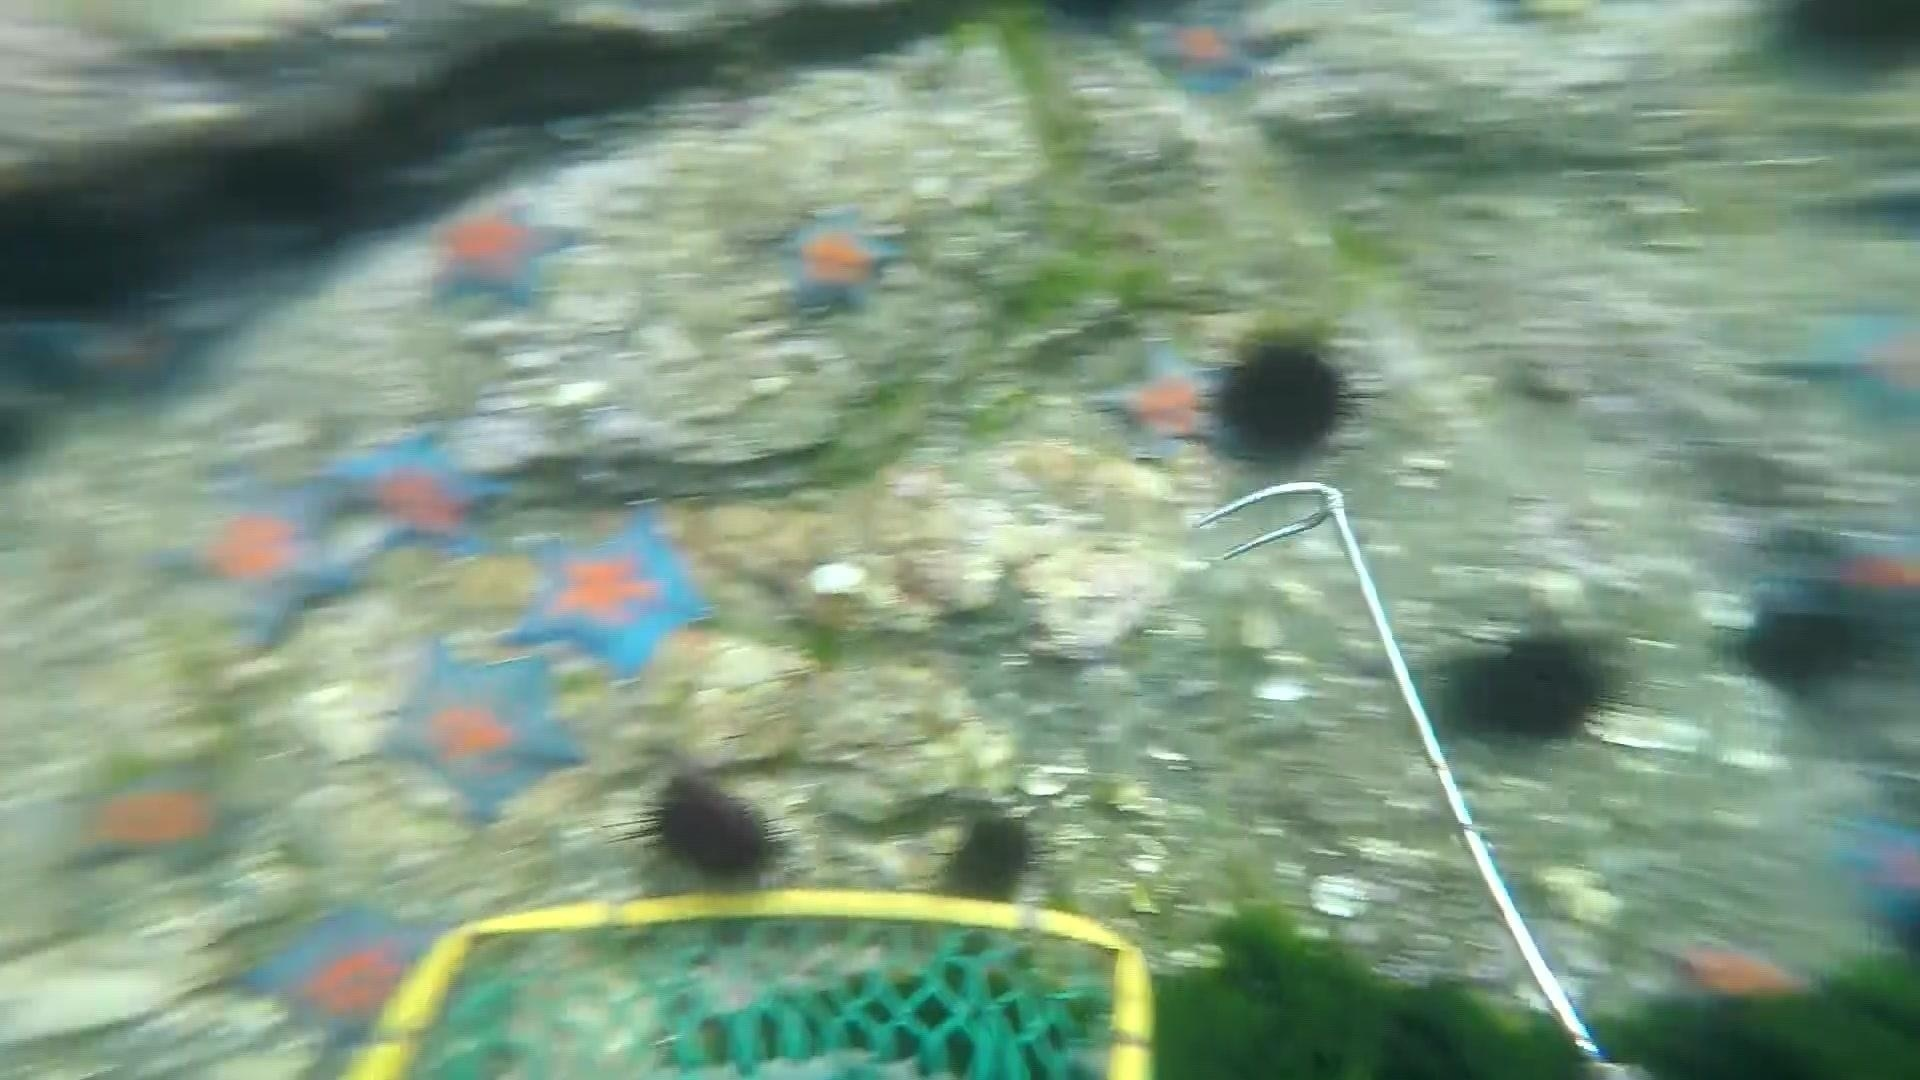echinus: (3, 167, 175, 326), (1447, 621, 1633, 753), (1211, 326, 1367, 472), (625, 767, 798, 891), (1730, 595, 1878, 702), (1746, 3, 1920, 87), (218, 132, 353, 235), (930, 804, 1051, 910)
starfish: (1593, 914, 1917, 1076), (150, 458, 372, 657), (227, 886, 467, 1069), (375, 638, 585, 829), (505, 508, 724, 684), (47, 742, 272, 885), (316, 421, 520, 562), (5, 295, 235, 414), (1756, 291, 1919, 438), (414, 187, 589, 320), (1766, 513, 1917, 663), (1087, 332, 1232, 471), (767, 196, 913, 323), (1633, 922, 1815, 1013), (1817, 800, 1919, 953), (1134, 7, 1278, 104)
